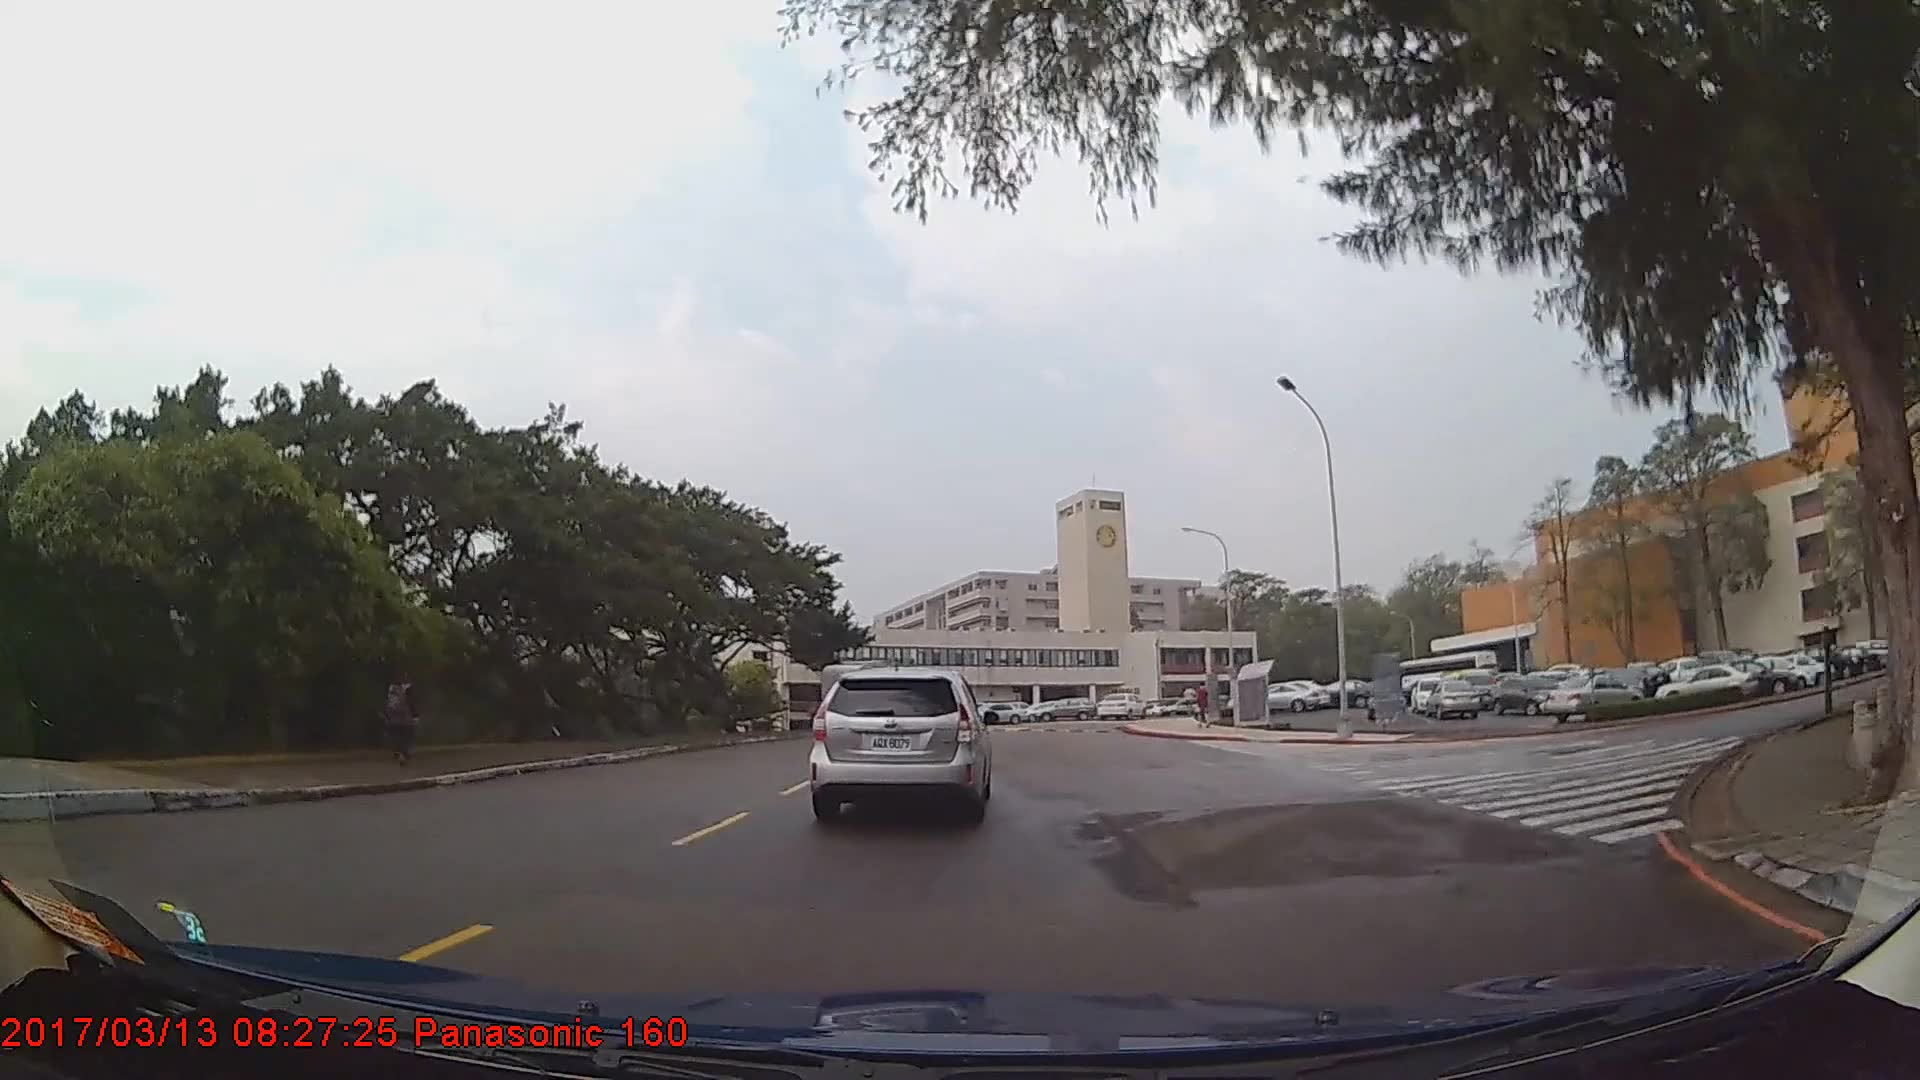pedestrian: (379, 659, 426, 760)
vehicle: (810, 666, 990, 823), (1542, 674, 1644, 724), (1654, 661, 1752, 709), (1710, 658, 1800, 698), (1492, 673, 1568, 716), (1425, 675, 1482, 719), (1248, 679, 1319, 711), (1032, 695, 1094, 722), (1095, 691, 1145, 721), (970, 701, 1027, 723)
